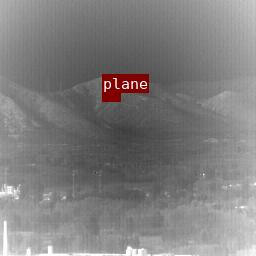plane: (102, 93, 120, 101)
